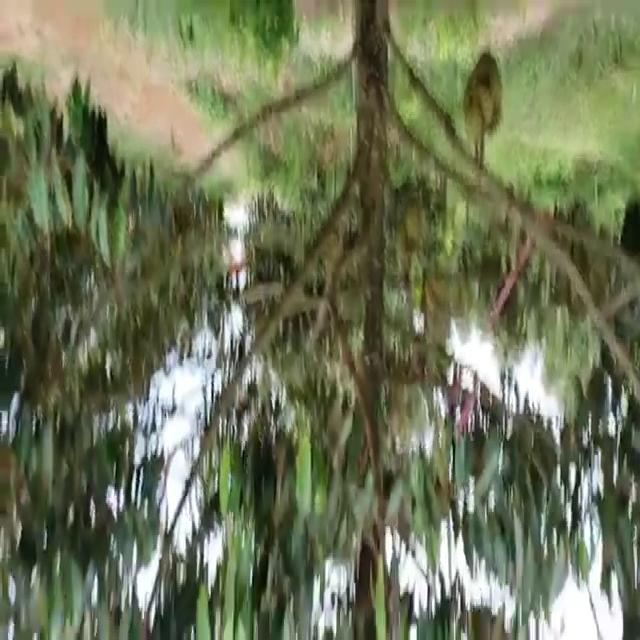durian: (463, 49, 506, 152)
